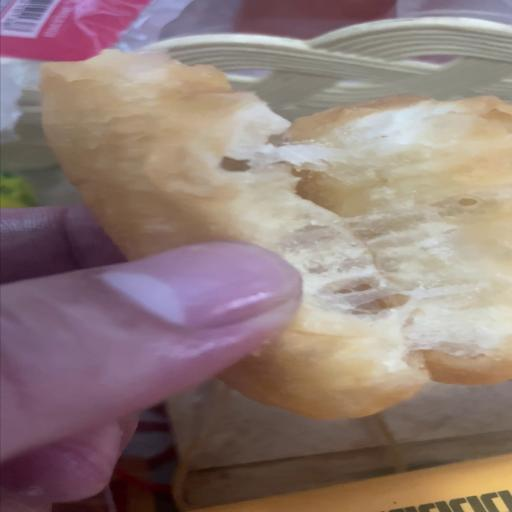street_golden_defect: (41, 65, 512, 420)
